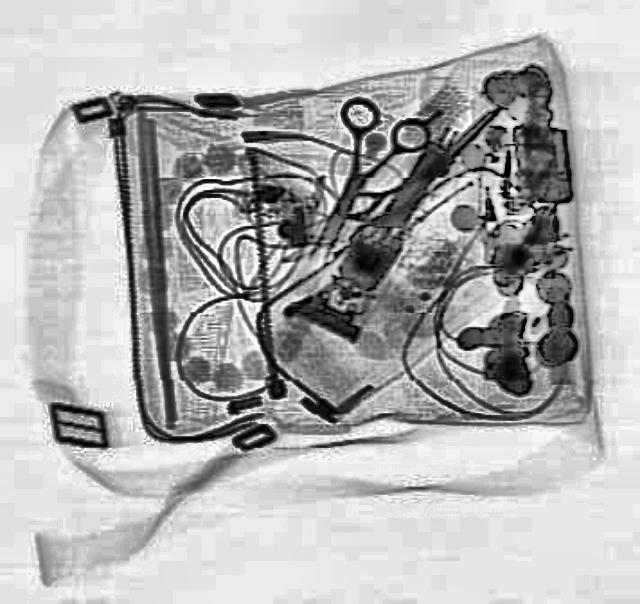Scissors: (269, 90, 433, 274)
